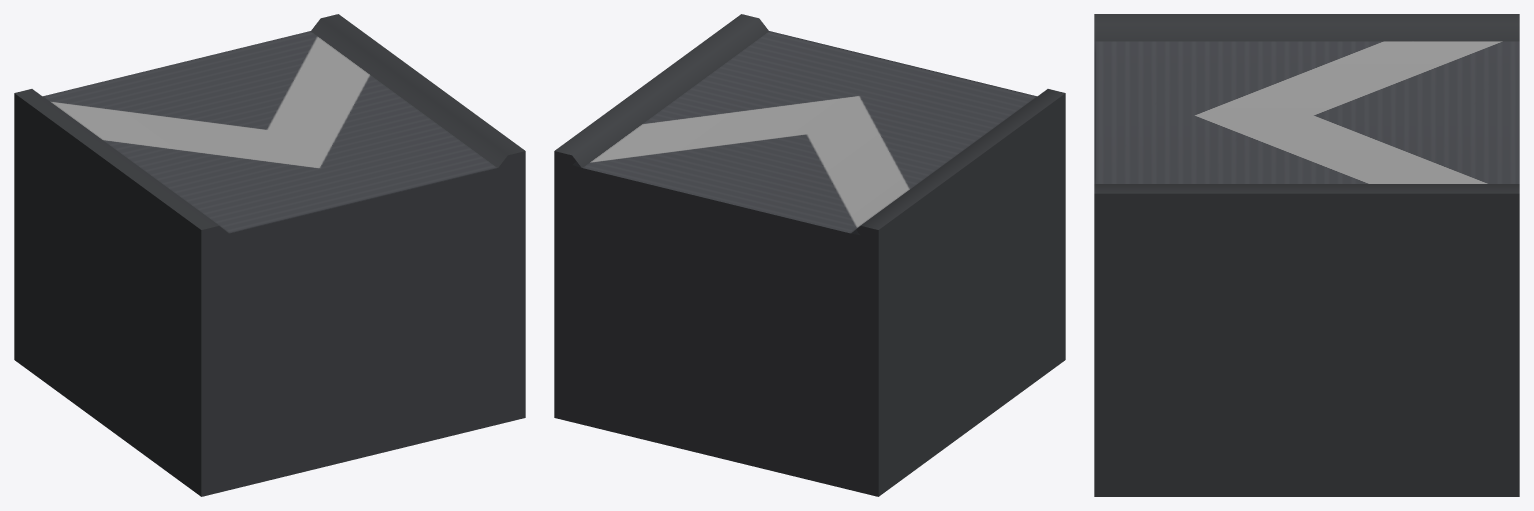
The model's file is DemoShapes.fbx.
The picture shows the model from 3 angles, left to right: view 1: azimuth 30°, elevation 25°; view 2: azimuth 150°, elevation 25°; view 3: azimuth 270°, elevation 25°; orthographic projection. The views are drawn at different scales.
Visible parts, largest first — view 1: ConveyorBelt; view 2: ConveyorBelt; view 3: ConveyorBelt.
Part boxes in pixels (left/top/right/bottom): ConveyorBelt: left=14, top=14, right=525, bottom=496; ConveyorBelt: left=554, top=14, right=1065, bottom=496; ConveyorBelt: left=1094, top=14, right=1519, bottom=496.
Size of the model in its own units: 1 by 0.7864 by 1.
1 material, 1 textured.
